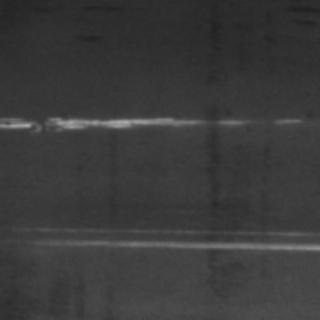scratches: (23, 218, 315, 250), (0, 108, 284, 134)
